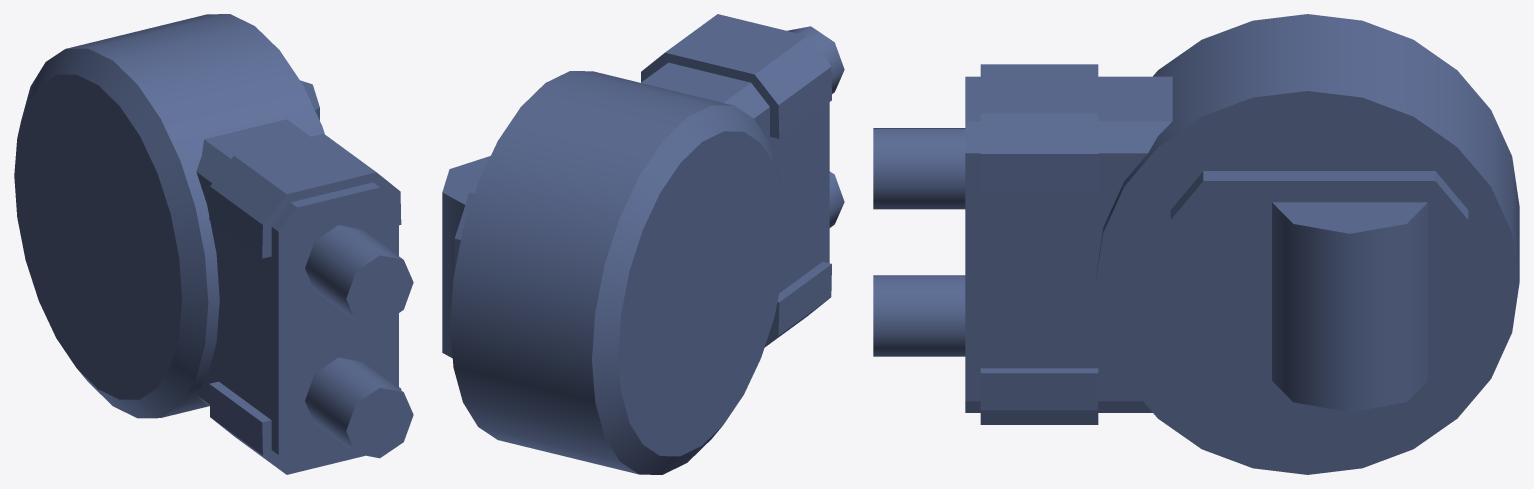
File: Small_guns_v1_R.FBX
The picture shows the model from 3 angles, left to right: view 1: azimuth 30°, elevation 25°; view 2: azimuth 150°, elevation 25°; view 3: azimuth 270°, elevation 25°; orthographic projection. The views are drawn at different scales.
Parts seen in each view (by area): view 1: Small_guns_v1_R; view 2: Small_guns_v1_R; view 3: Small_guns_v1_R.
Boxes of the visible parts, x1,y1,x2,y2 form: Small_guns_v1_R: (14, 14, 413, 474); Small_guns_v1_R: (442, 14, 844, 474); Small_guns_v1_R: (873, 14, 1519, 474).
Size of the model in its own units: 0.6221 by 0.8792 by 1.34.
